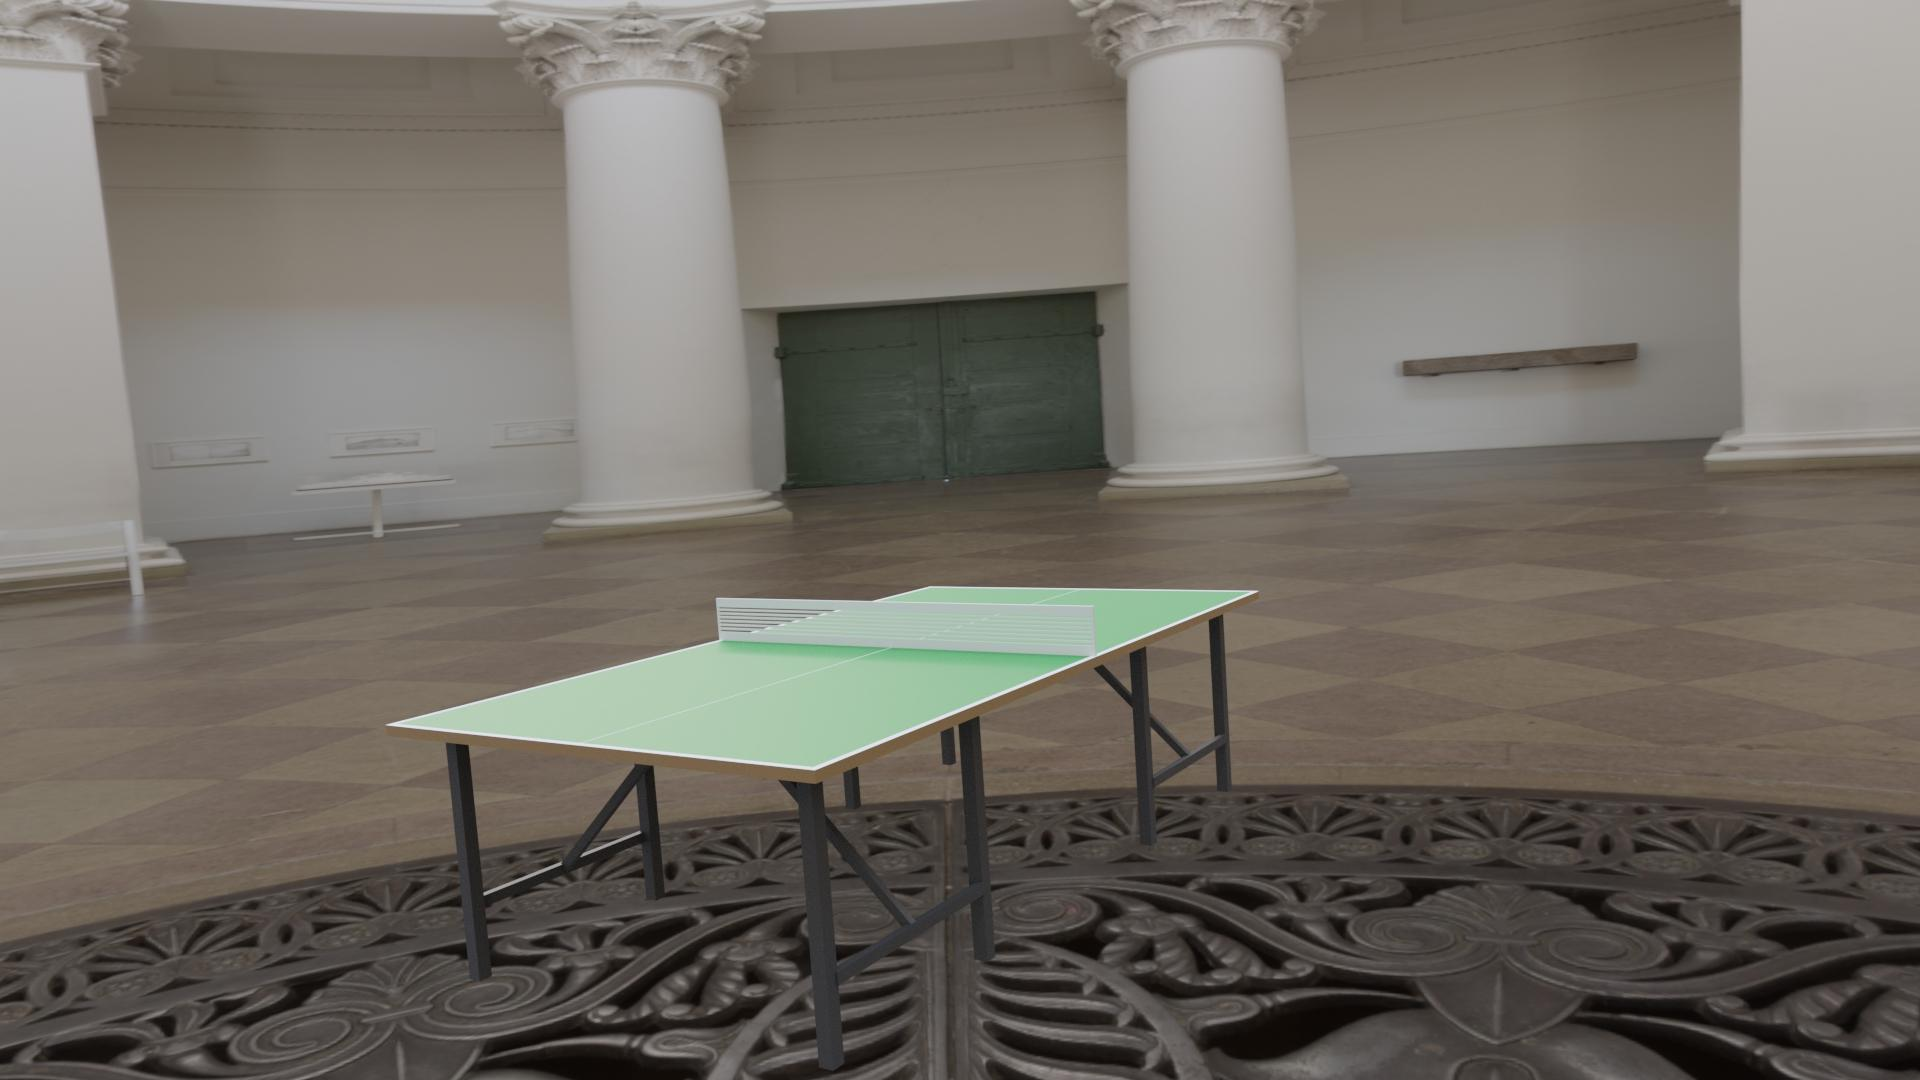table: (397, 587, 1251, 767)
